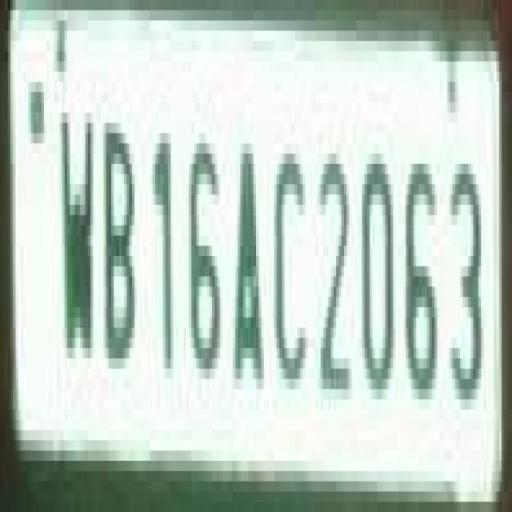number plate: (0, 0, 486, 491)
